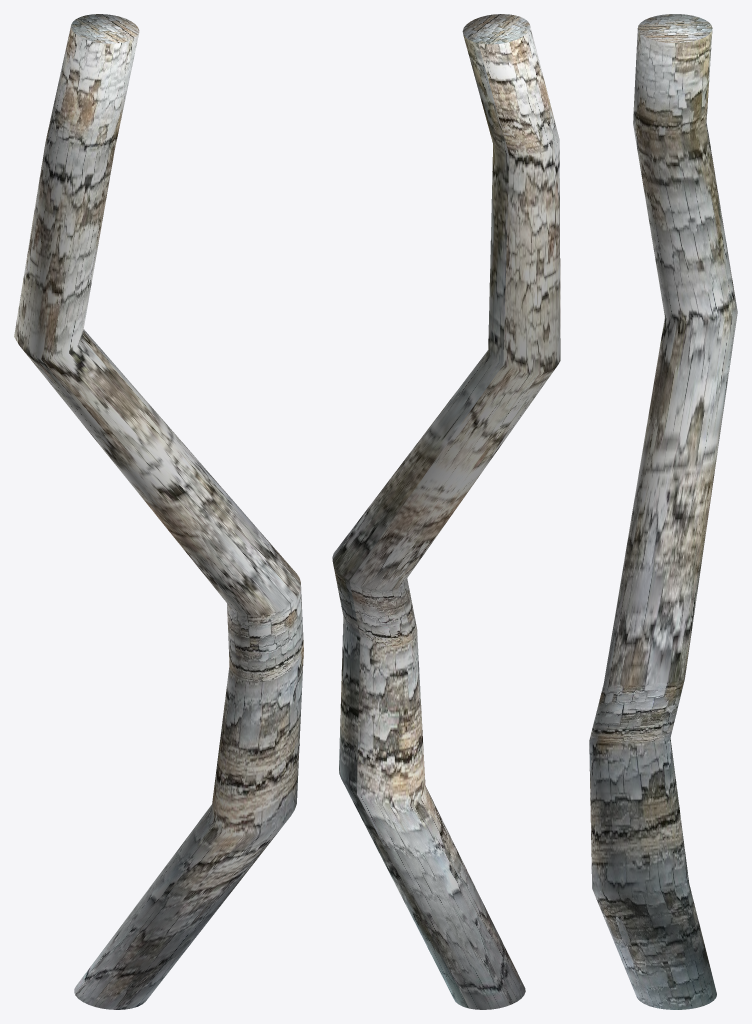
The model's file is branch_c1.glb.
3 views of the same model, side by side, from view 1: azimuth 30°, elevation 25°; view 2: azimuth 150°, elevation 25°; view 3: azimuth 270°, elevation 25° (orthographic).
Parts seen in each view (by area): view 1: Cylinder.016; view 2: Cylinder.016; view 3: Cylinder.016.
Boxes of the visible parts, box(x1,y1,x2,y2) form: Cylinder.016: box(14, 14, 303, 1009); Cylinder.016: box(332, 14, 560, 1009); Cylinder.016: box(589, 14, 737, 1009).
Size of the model in its own units: 0.2623 by 1 by 0.1396.
Materials: 1 (1 with a texture image).
